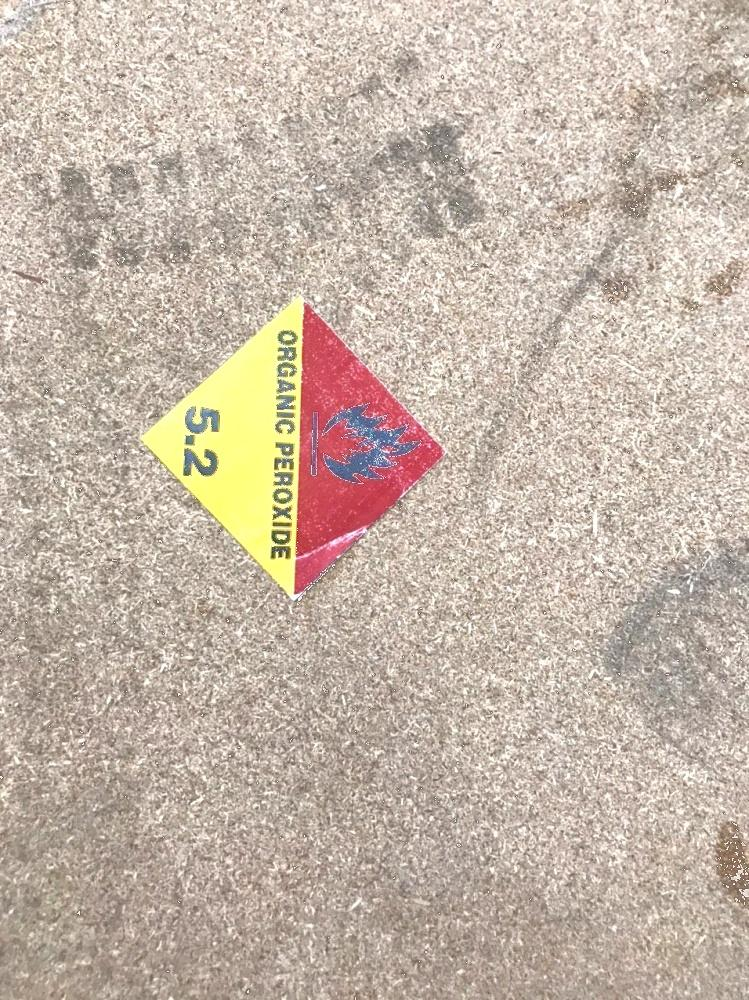organic-peroxide: (138, 299, 447, 603)
